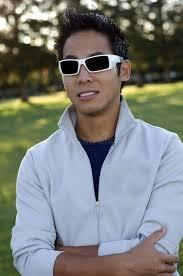sunglasses: (54, 51, 122, 78)
